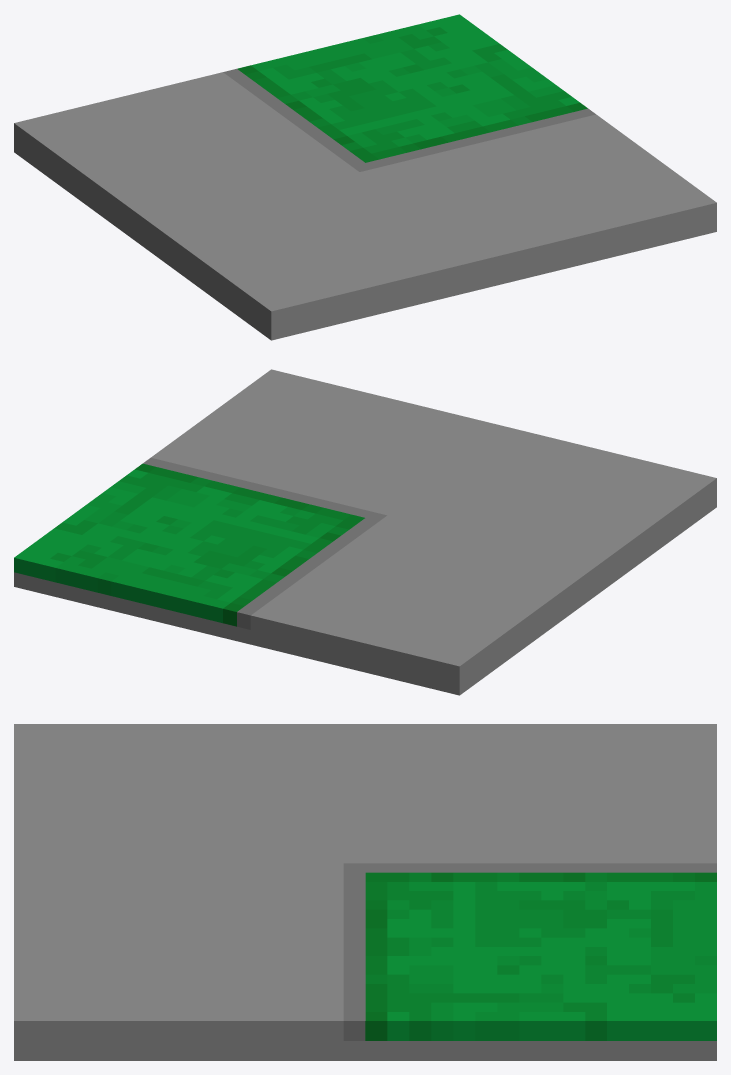
Rendered from forest-city-edgy-edge-outer-2.gltf.
3 views of the same model, one above another, from view 1: azimuth 30°, elevation 25°; view 2: azimuth 150°, elevation 25°; view 3: azimuth 270°, elevation 25° (orthographic). The views are drawn at different scales.
Parts seen in each view (by area): view 1: forest-city-edgy-edge-outer-2; view 2: forest-city-edgy-edge-outer-2; view 3: forest-city-edgy-edge-outer-2.
Boxes of the visible parts, x1,y1,x2,y2 form: forest-city-edgy-edge-outer-2: (14,14,716,340); forest-city-edgy-edge-outer-2: (14,369,716,695); forest-city-edgy-edge-outer-2: (14,724,716,1060).
Bounding box in the file's own units: 3.2 × 0.2 × 3.2.
1 material, 1 textured.
